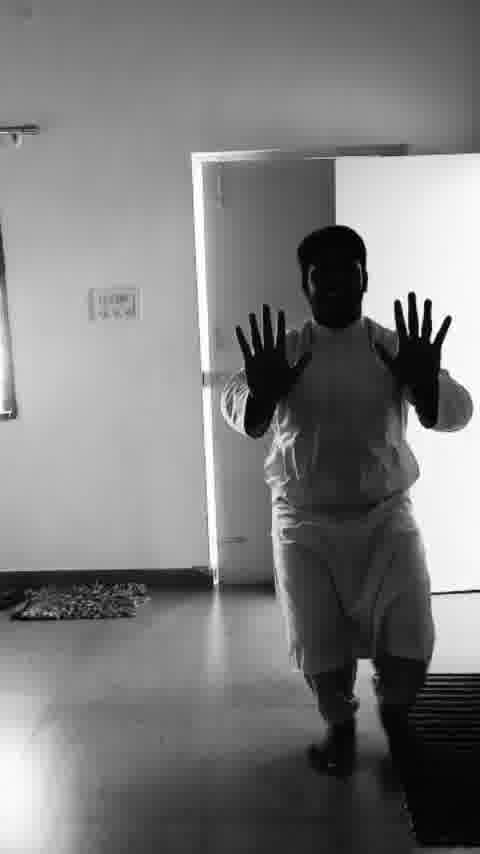duck: (220, 214, 477, 779)
